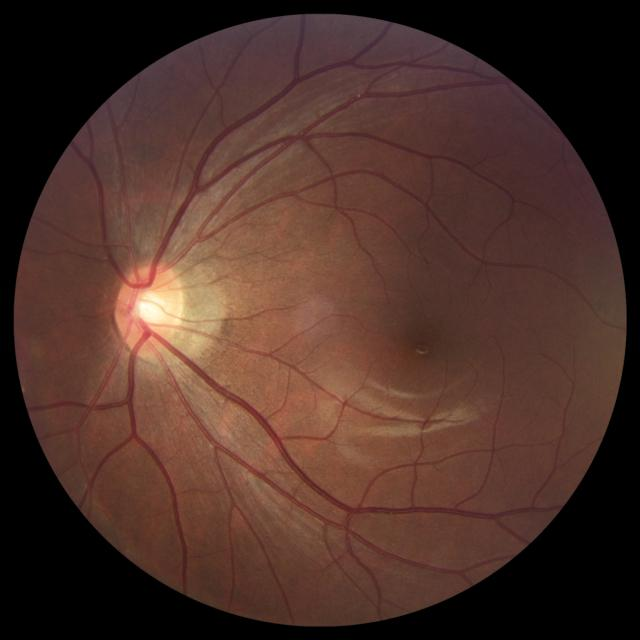OC: (132, 288, 167, 324)
OD: (116, 264, 184, 358)
